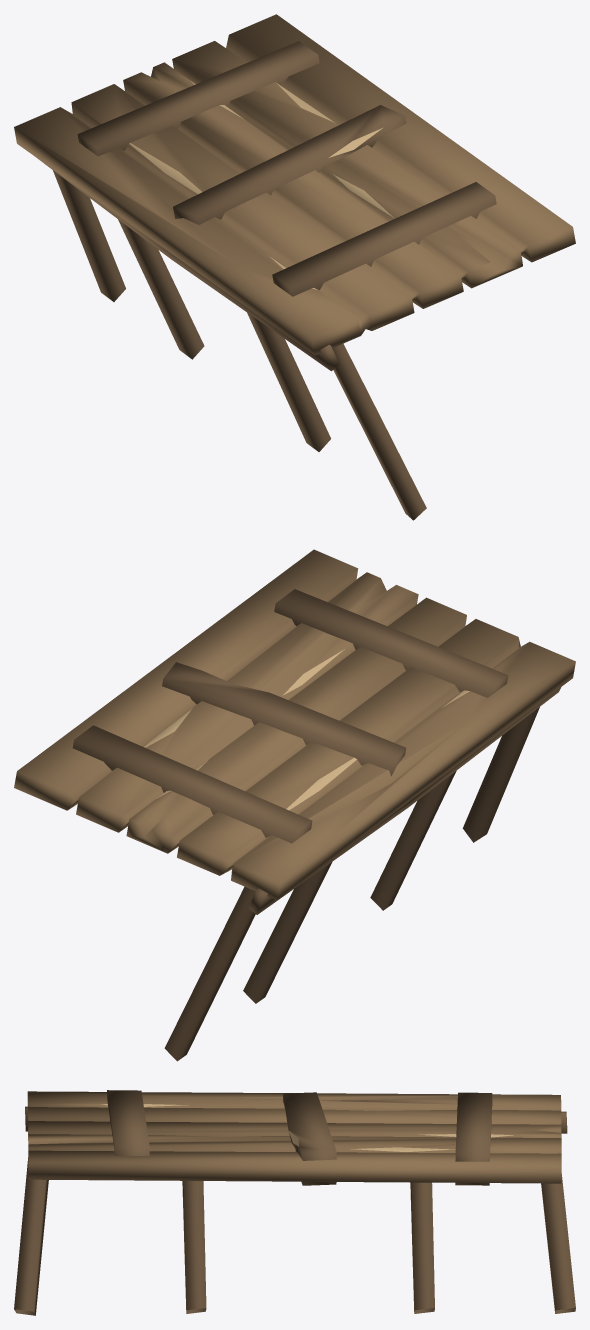
The model's file is rpgpp_ag_roof_01d_half_window_01_shutter_a.fbx.
3 renders of one model, top to bottom at view 1: azimuth 30°, elevation 25°; view 2: azimuth 150°, elevation 25°; view 3: azimuth 270°, elevation 25°, orthographic. The views are drawn at different scales.
Visible parts, largest first — view 1: rpgpp_ag_roof_01d_half_window_01_shutter_a; view 2: rpgpp_ag_roof_01d_half_window_01_shutter_a; view 3: rpgpp_ag_roof_01d_half_window_01_shutter_a.
Part boxes in pixels (box(x1,y1,x2,y2)): rpgpp_ag_roof_01d_half_window_01_shutter_a: box(14, 14, 575, 520); rpgpp_ag_roof_01d_half_window_01_shutter_a: box(14, 549, 575, 1061); rpgpp_ag_roof_01d_half_window_01_shutter_a: box(14, 1090, 575, 1315).
Size of the model in its own units: 1.05 by 0.9579 by 2.14.
